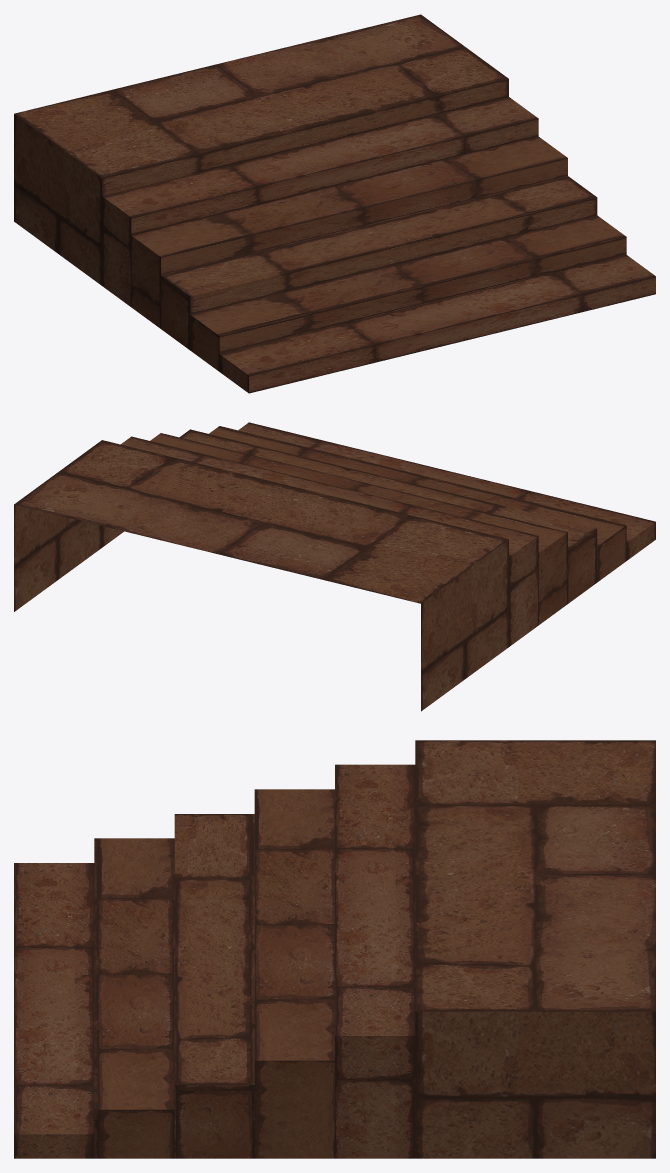
Rendered from Stairs_1x1.fbx.
3 renders of one model, top to bottom at view 1: azimuth 30°, elevation 25°; view 2: azimuth 150°, elevation 25°; view 3: azimuth 270°, elevation 25°, orthographic. The views are drawn at different scales.
Visible parts, largest first — view 1: Stairs_1x1; view 2: Stairs_1x1; view 3: Stairs_1x1.
Part boxes in pixels (left/top/right/bottom): Stairs_1x1: left=14, top=14, right=655, bottom=393; Stairs_1x1: left=14, top=422, right=655, bottom=711; Stairs_1x1: left=14, top=740, right=655, bottom=1158.
Bounding box in the file's own units: 116 × 29.47 × 116.
